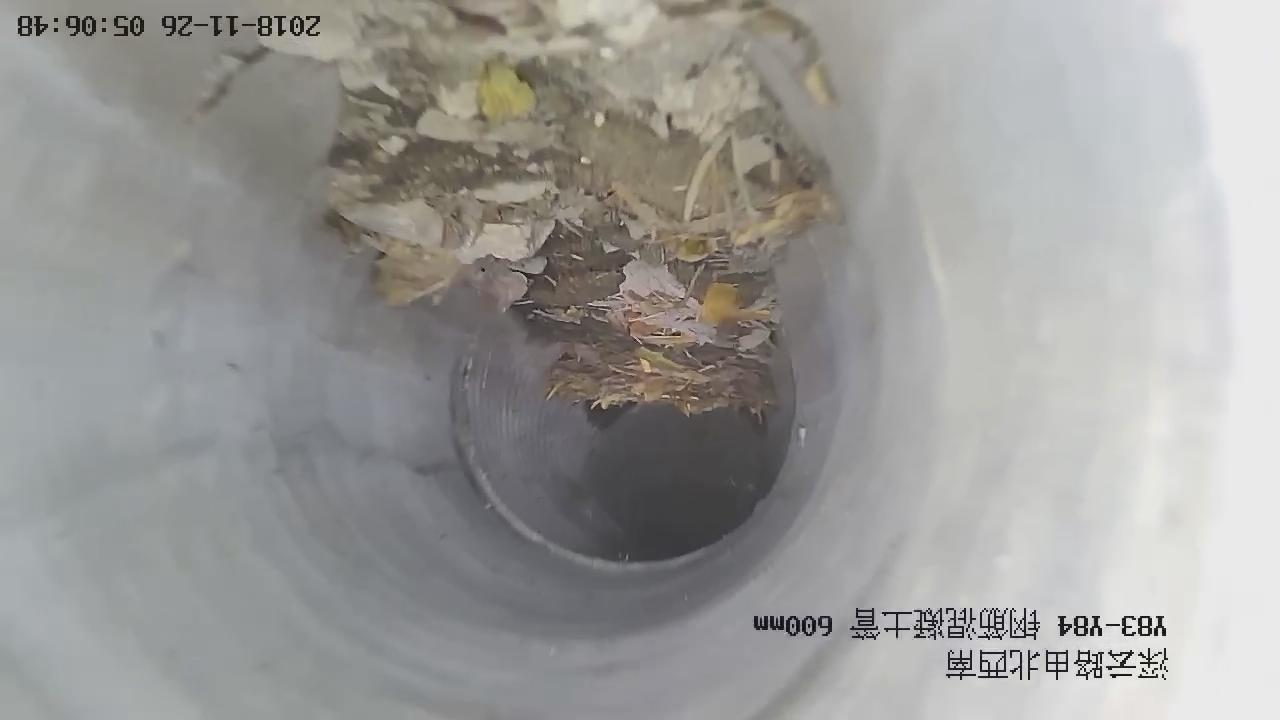CJ: (318, 1, 833, 414)
